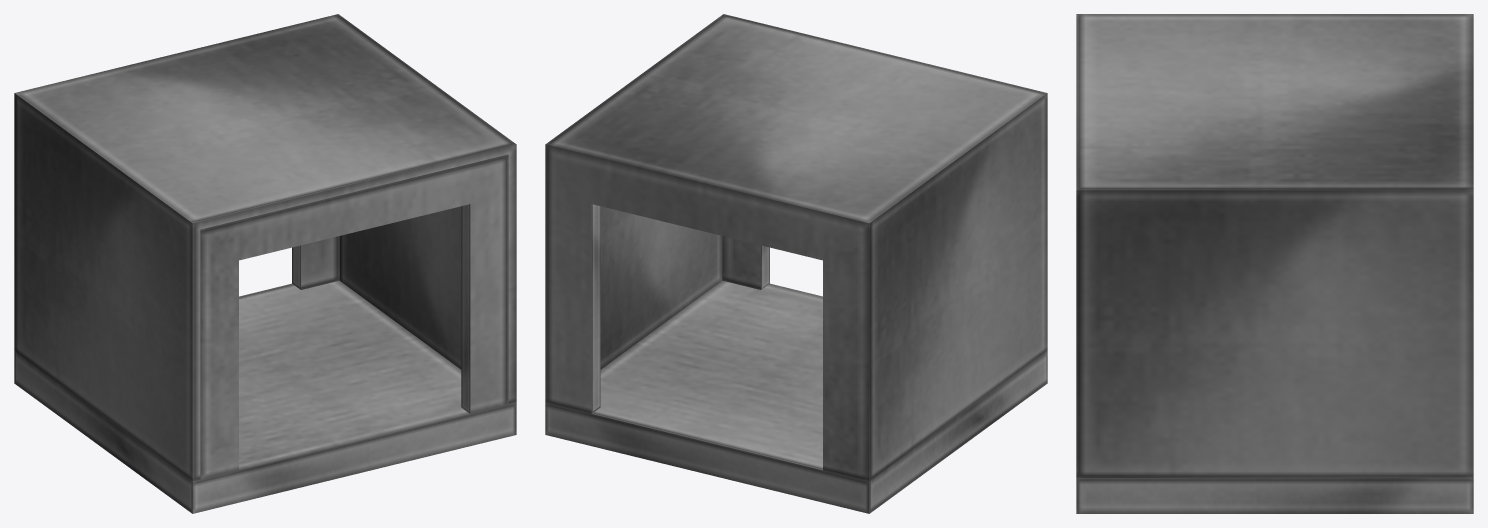
The model's file is SM_SYD_Elevator.fbx.
The picture shows the model from 3 angles, left to right: view 1: azimuth 30°, elevation 25°; view 2: azimuth 150°, elevation 25°; view 3: azimuth 270°, elevation 25°; orthographic projection. The views are drawn at different scales.
Parts seen in each view (by area): view 1: SM_SYD_Elevator; view 2: SM_SYD_Elevator; view 3: SM_SYD_Elevator.
Boxes of the visible parts, left/top/right/bottom form: SM_SYD_Elevator: left=14, top=14, right=516, bottom=513; SM_SYD_Elevator: left=545, top=14, right=1047, bottom=513; SM_SYD_Elevator: left=1076, top=14, right=1473, bottom=513.
Bounding box in the file's own units: 420 × 360 × 400.
